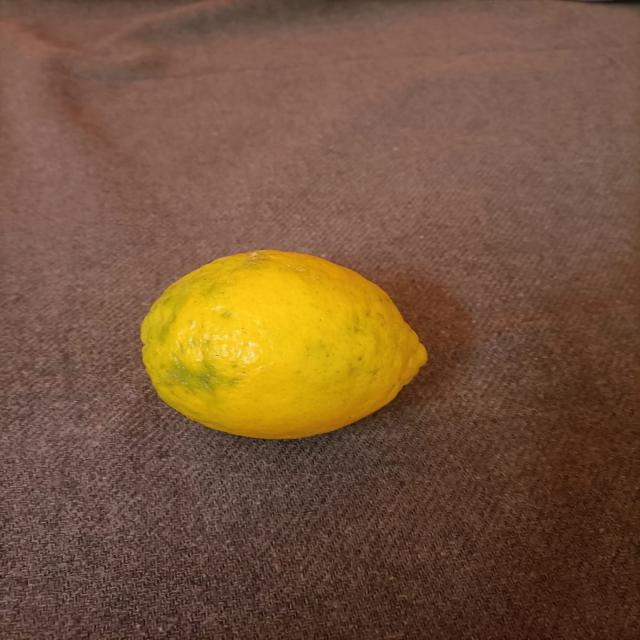orange: (91, 183, 473, 560)
